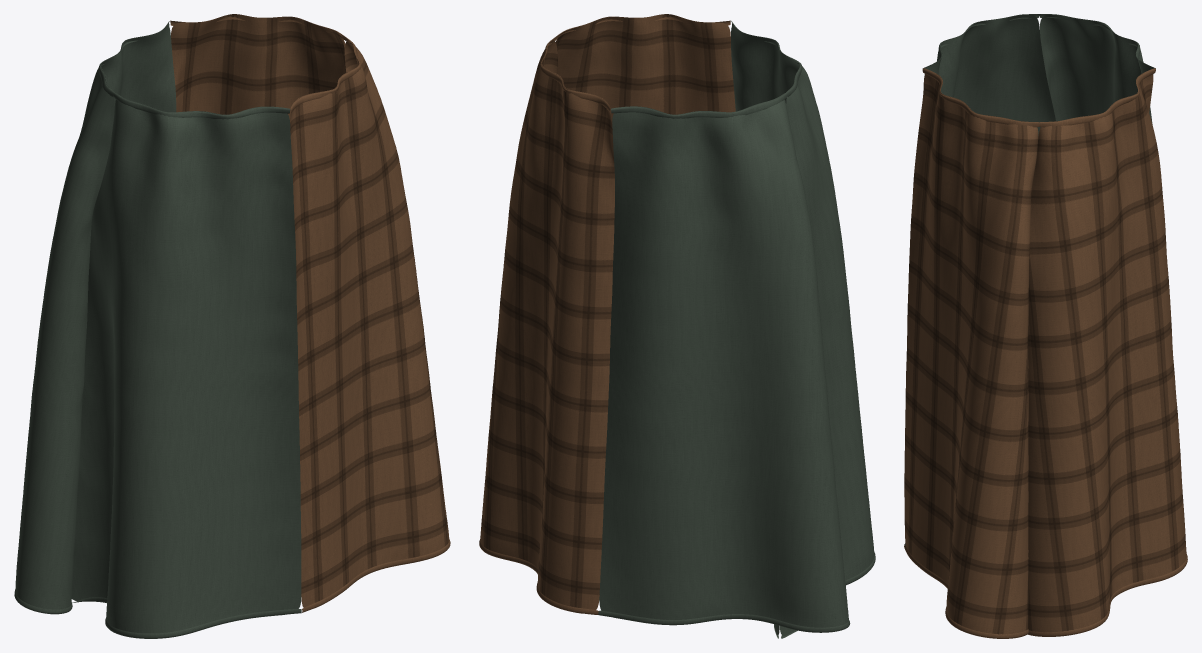
File: 双色拼片裙.glb
3 renders of one model, left to right at view 1: azimuth 30°, elevation 25°; view 2: azimuth 150°, elevation 25°; view 3: azimuth 270°, elevation 25°, orthographic. The views are drawn at different scales.
Parts seen in each view (by area): view 1: 前片 B, 前片 A, 后片 B, 后片 A, 前片 B 包边, 前片 A 包边, 后片 B 包边; view 2: 后片 B, 后片 A, 前片 B, 前片 A, 后片 B 包边, 后片 A 包边; view 3: 后片 A, 前片 A, 前片 B, 后片 B, 后片 A 包边, 前片 A 包边.
Boxes of the visible parts, x1=… form: 前片 B: x1=71, y1=97, x2=301, y2=638; 前片 A: x1=290, y1=40, x2=449, y2=608; 后片 B: x1=15, y1=25, x2=176, y2=614; 后片 A: x1=171, y1=14, x2=346, y2=123; 前片 B 包边: x1=72, y1=93, x2=301, y2=638; 前片 A 包边: x1=290, y1=37, x2=450, y2=612; 后片 B 包边: x1=14, y1=21, x2=169, y2=613; 后片 B: x1=599, y1=97, x2=848, y2=635; 后片 A: x1=480, y1=40, x2=614, y2=613; 前片 B: x1=731, y1=25, x2=874, y2=635; 前片 A: x1=555, y1=14, x2=735, y2=122; 后片 B 包边: x1=598, y1=93, x2=850, y2=638; 后片 A 包边: x1=479, y1=37, x2=610, y2=614; 后片 A: x1=1028, y1=74, x2=1186, y2=636; 前片 A: x1=904, y1=74, x2=1038, y2=638; 前片 B: x1=924, y1=14, x2=1055, y2=135; 后片 B: x1=1040, y1=14, x2=1153, y2=124; 后片 A 包边: x1=1028, y1=68, x2=1187, y2=636; 前片 A 包边: x1=904, y1=68, x2=1038, y2=638.
Bounding box in the file's own units: 0.4993 × 0.6562 × 0.3338.
Materials: 8 (8 with a texture image).
